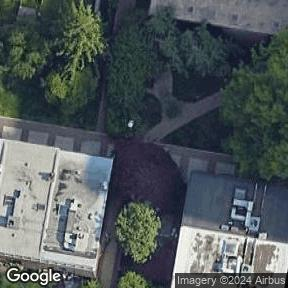vegetation: (117, 202, 162, 264), (117, 270, 159, 288)
